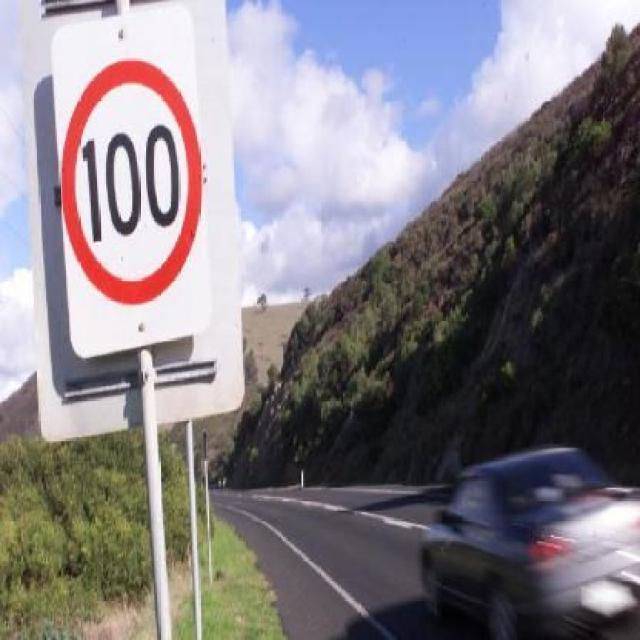forb_speed_over_100: (63, 57, 203, 301)
